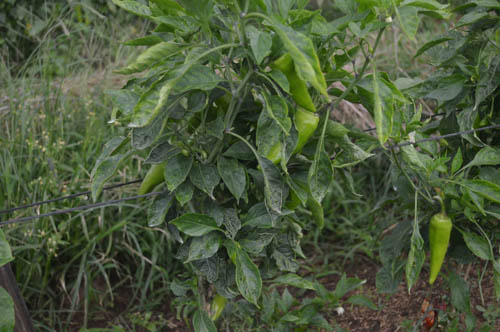ChiliPepper: (254, 108, 316, 173), (272, 56, 317, 111), (426, 213, 452, 291), (140, 155, 168, 196)
